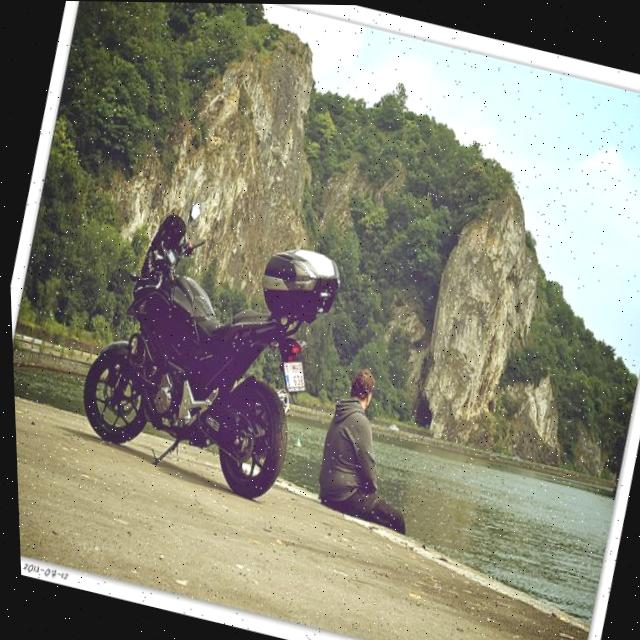motorcycle: (58, 196, 359, 514)
